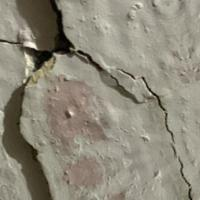crack: (0, 0, 182, 190)
